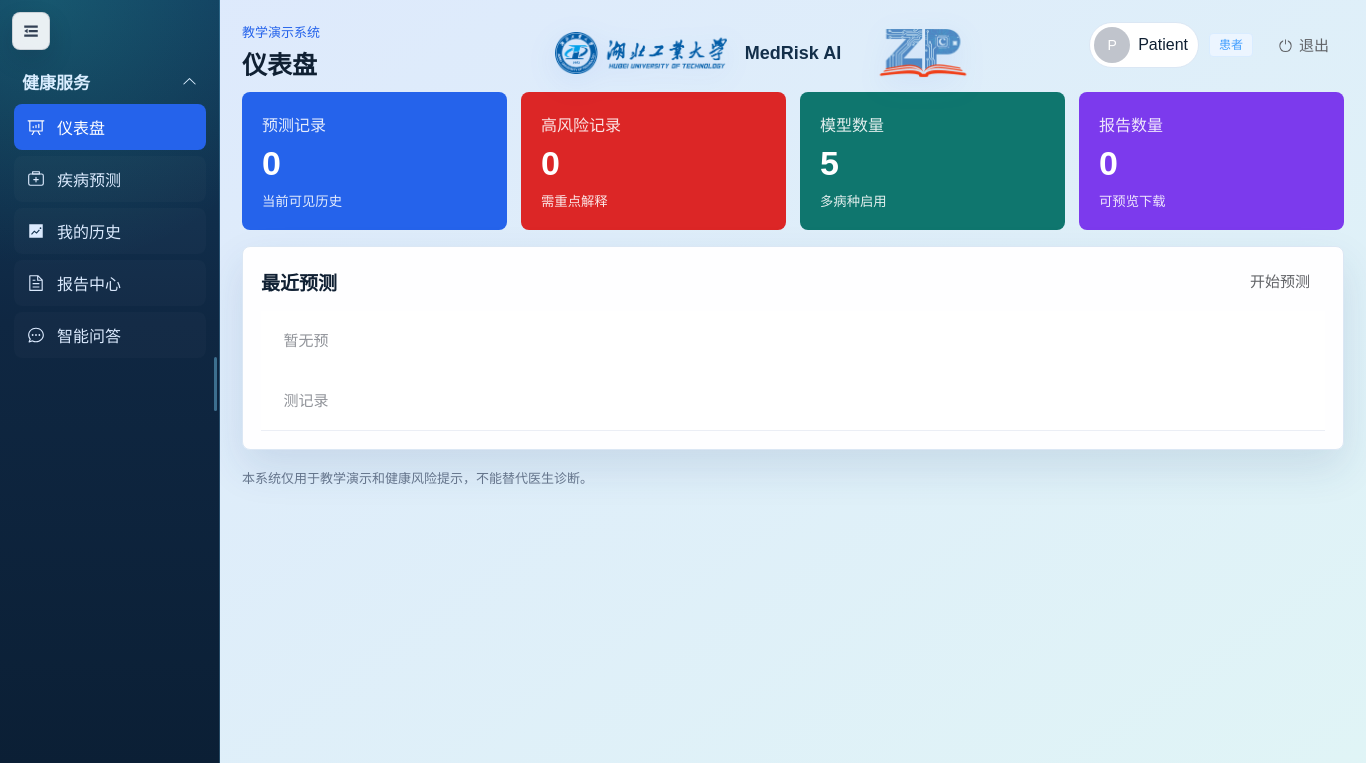
App › opens personal info from the avatar entry
This screenshot has width=1366, height=763.
Click the button with class "avatar-entry".
click(1144, 45)  # box x1=1089 y1=22 x2=1199 y2=68
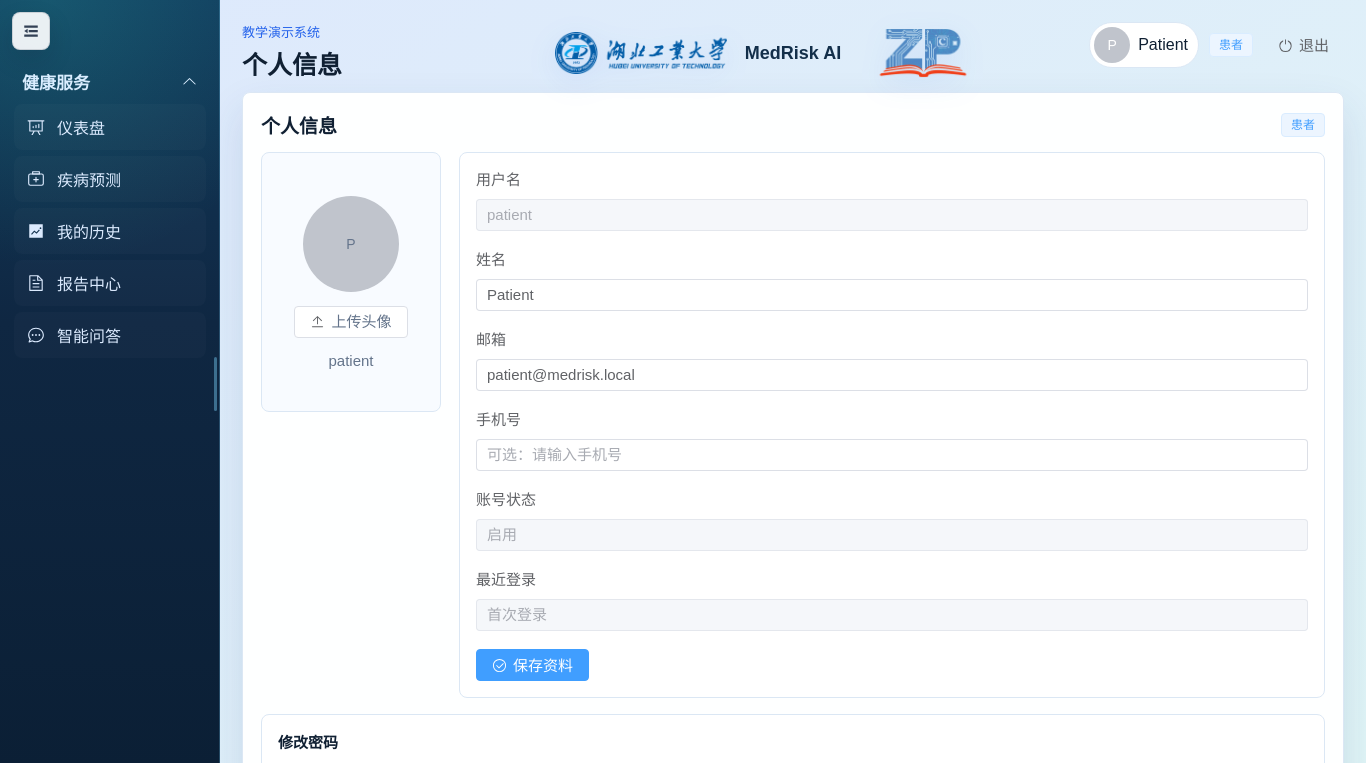
Result: the text "个人信息" is shown at x1=242 y1=51 x2=342 y2=79
Result: the text "保存资料" is shown at x1=513 y1=658 x2=573 y2=672
